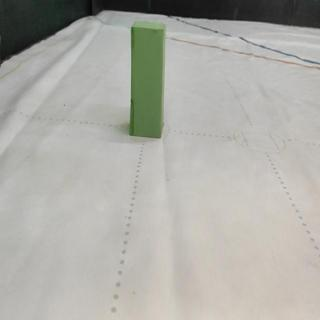greenbox: (127, 17, 169, 142)
